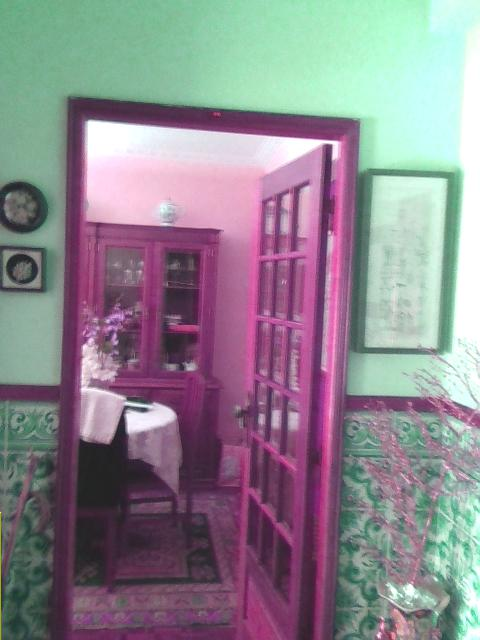open_door: (55, 94, 359, 639)
